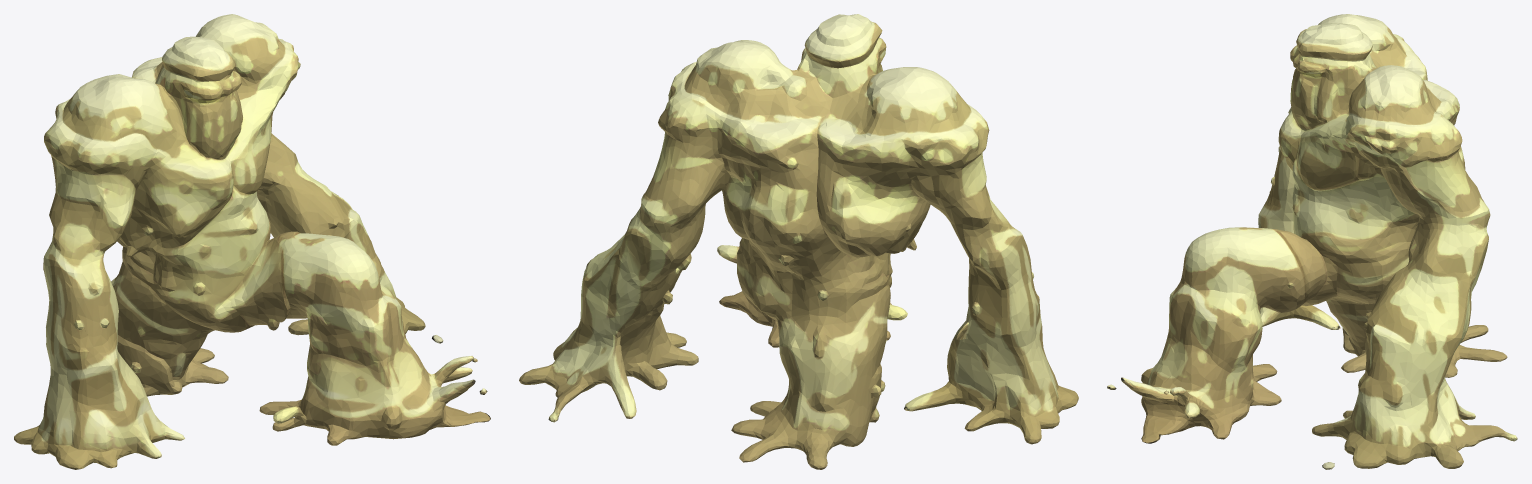
The picture shows the model from 3 angles, left to right: view 1: azimuth 30°, elevation 25°; view 2: azimuth 150°, elevation 25°; view 3: azimuth 270°, elevation 25°; orthographic projection. The views are drawn at different scales.
Visible parts, largest first — view 1: world; view 2: world; view 3: world.
Part boxes in pixels (x1=…): world: x1=14, y1=14, x2=490, y2=469; world: x1=519, y1=14, x2=1078, y2=469; world: x1=1107, y1=14, x2=1517, y2=469.
Bounding box in the file's own units: 0.9999 × 0.805 × 0.8897.
Materials: 1 (1 with a texture image).
